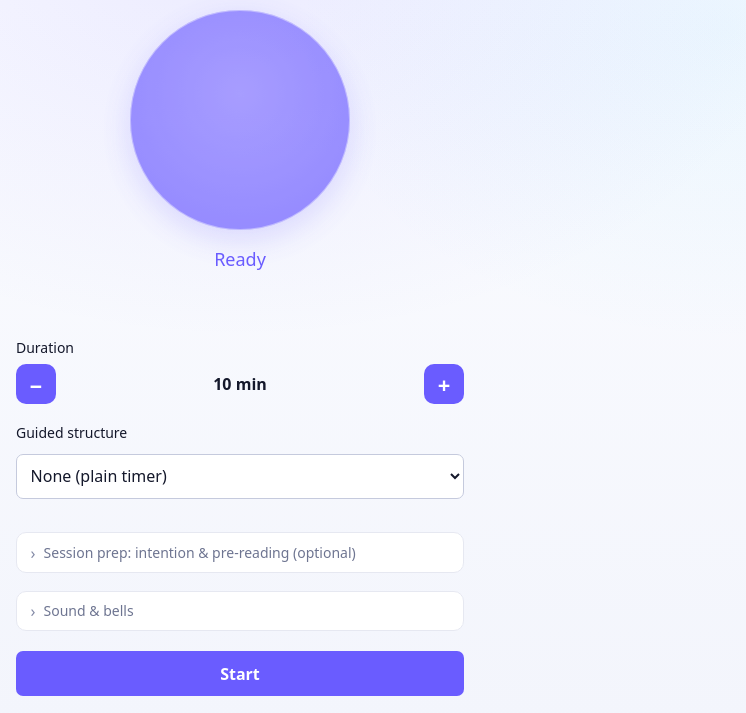
Test: MeditatePage — pre-session intention › hides the intention textarea once the sit has started
(page scrolled)
Click the button "Start" at (240, 674), box [16,651,464,696]
(page scrolled)
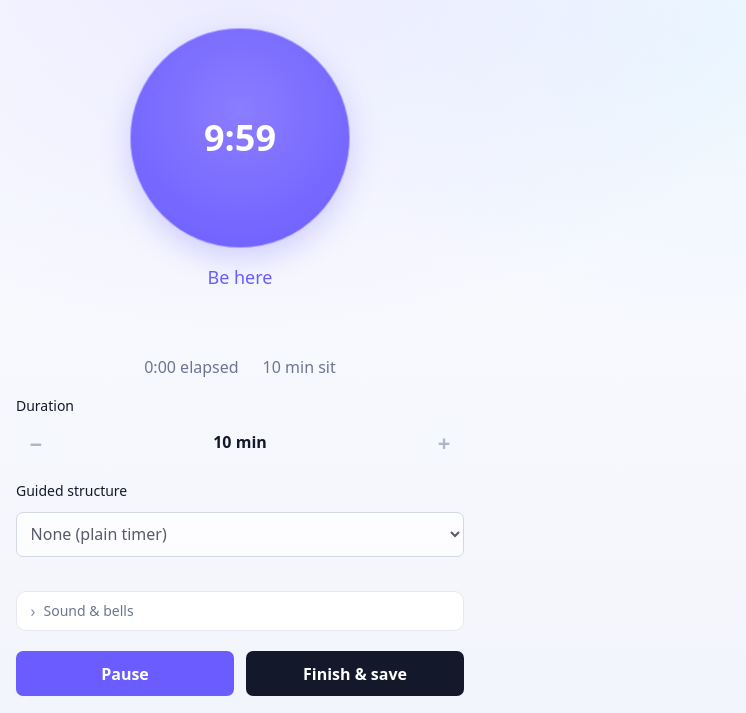
Check: the heading labelled "intention" is gone
